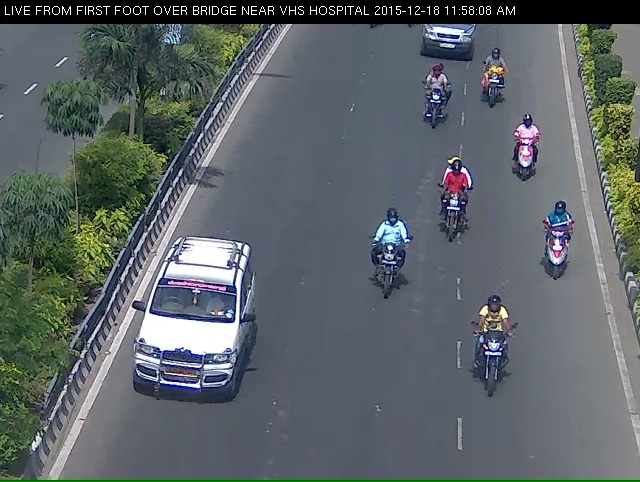Car: (122, 246, 247, 432), (415, 20, 479, 62)
Person: (469, 304, 522, 421), (366, 221, 408, 322), (432, 167, 479, 247), (538, 208, 575, 295), (507, 121, 541, 195), (480, 48, 514, 121), (413, 69, 447, 136)
